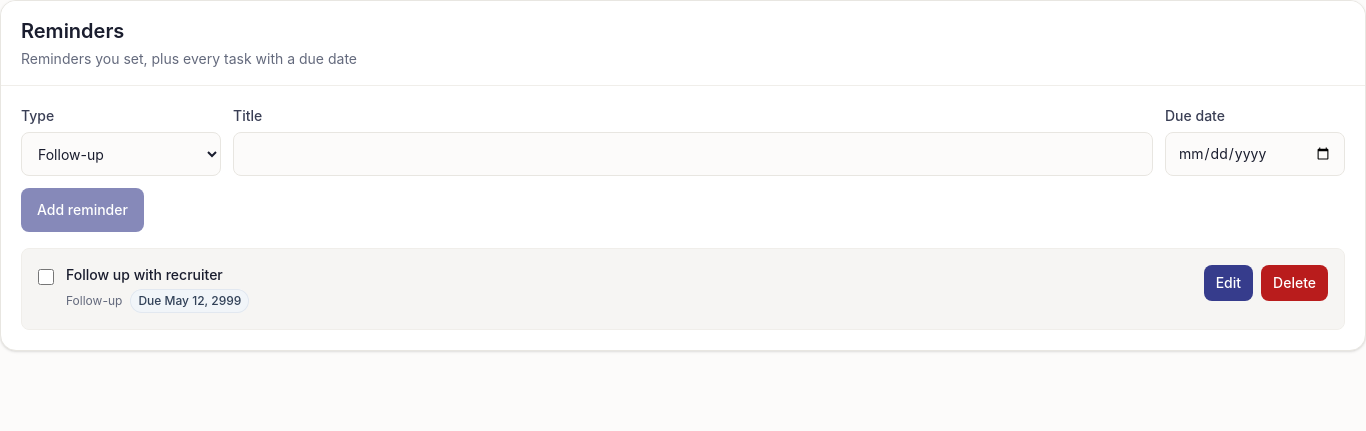
Test case: JobDetailRemindersPanel › shows a failed delete as an alert and keeps the reminder
The image size is (1366, 431).
Click the button with aria-label "Delete reminder Follow up with recruiter" at (1295, 283), box [1261,265,1328,301]
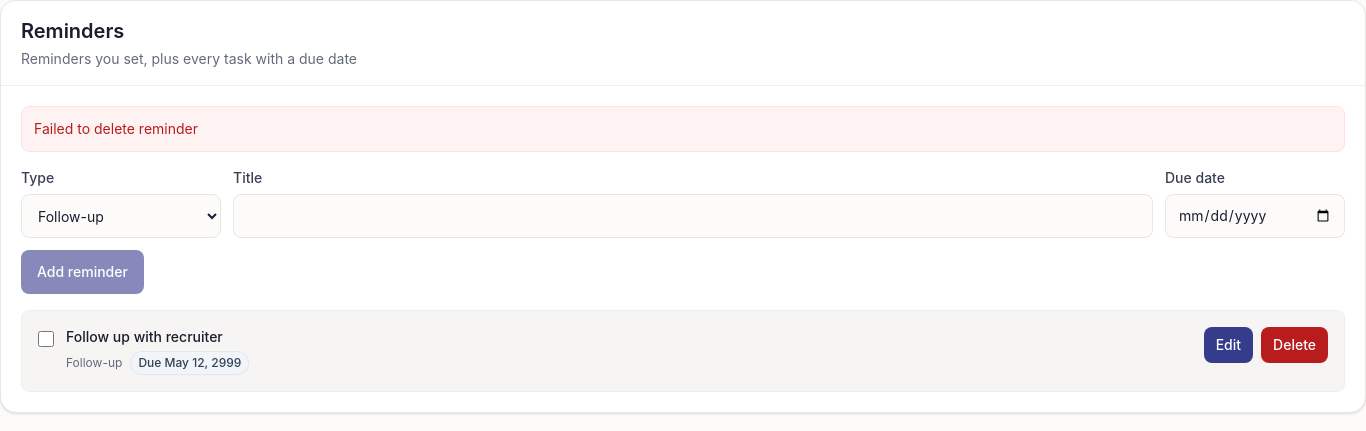
Expected: the text "Follow up with recruiter" is shown, [66,328,223,345]
Expected: the message reads "Failed to delete reminder", [34,120,198,137]
